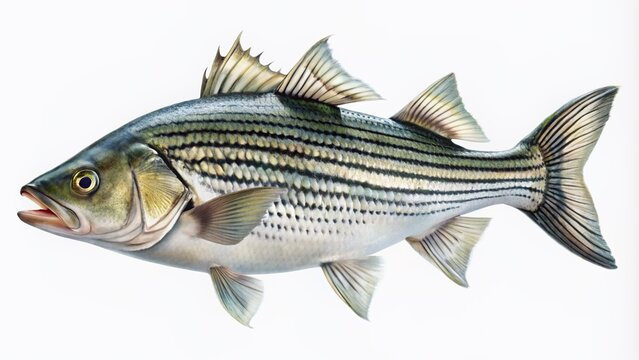Striped Bass: (11, 27, 639, 327)
